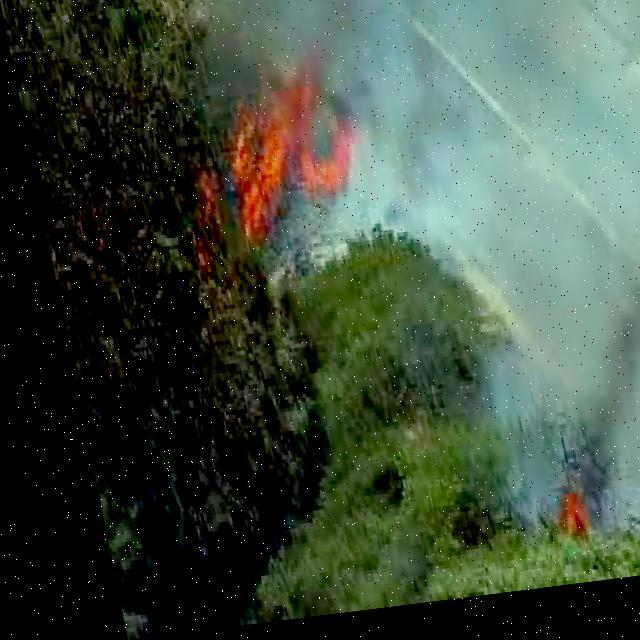Fire: (143, 63, 372, 274)
